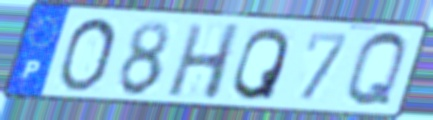7: (299, 30, 351, 104)
8: (113, 17, 177, 97)
H: (164, 22, 245, 103)
O: (55, 15, 120, 94)
Q: (343, 29, 409, 110), (229, 25, 292, 103)
